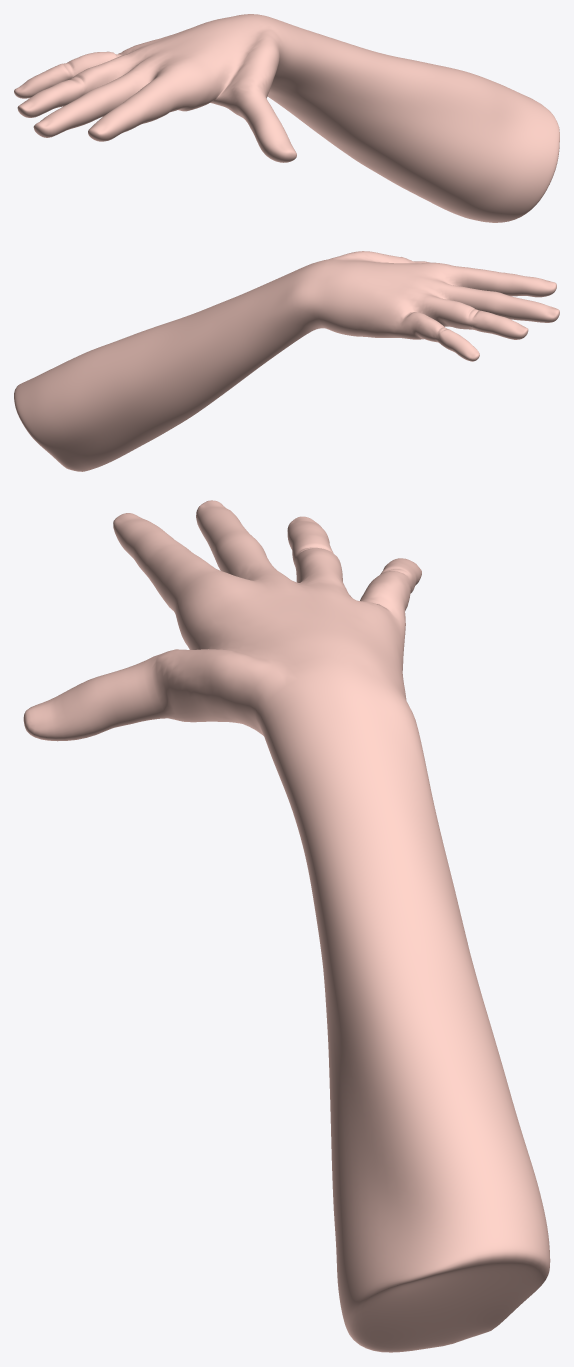
The model's file is hand.glb.
3 renders of one model, top to bottom at view 1: azimuth 30°, elevation 25°; view 2: azimuth 150°, elevation 25°; view 3: azimuth 270°, elevation 25°, orthographic. The views are drawn at different scales.
Parts seen in each view (by area): view 1: Object_3; view 2: Object_3; view 3: Object_3.
Part boxes in pixels (x1,y1,x2,y2): Object_3: (14, 14, 559, 222); Object_3: (14, 251, 559, 471); Object_3: (23, 500, 550, 1352).
Size of the model in its own units: 2.54 by 1.2 by 1.2.
